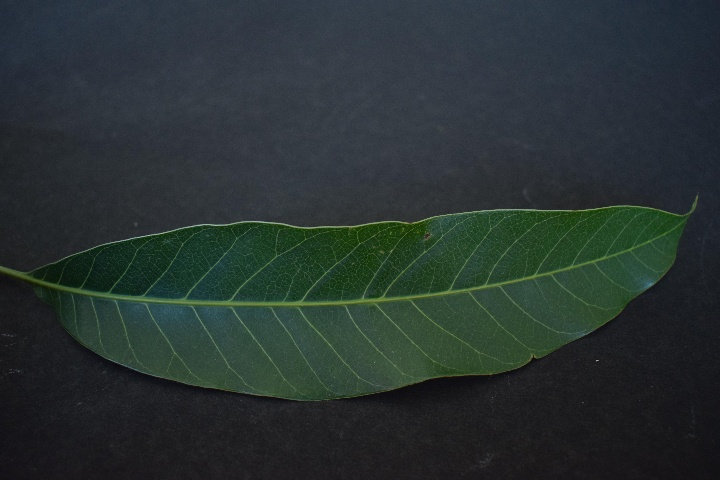healthy: (41, 202, 678, 402)
